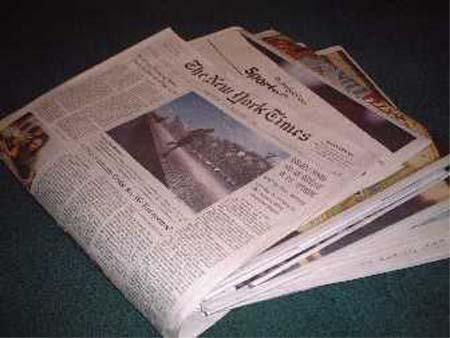paper: (0, 27, 450, 338)
